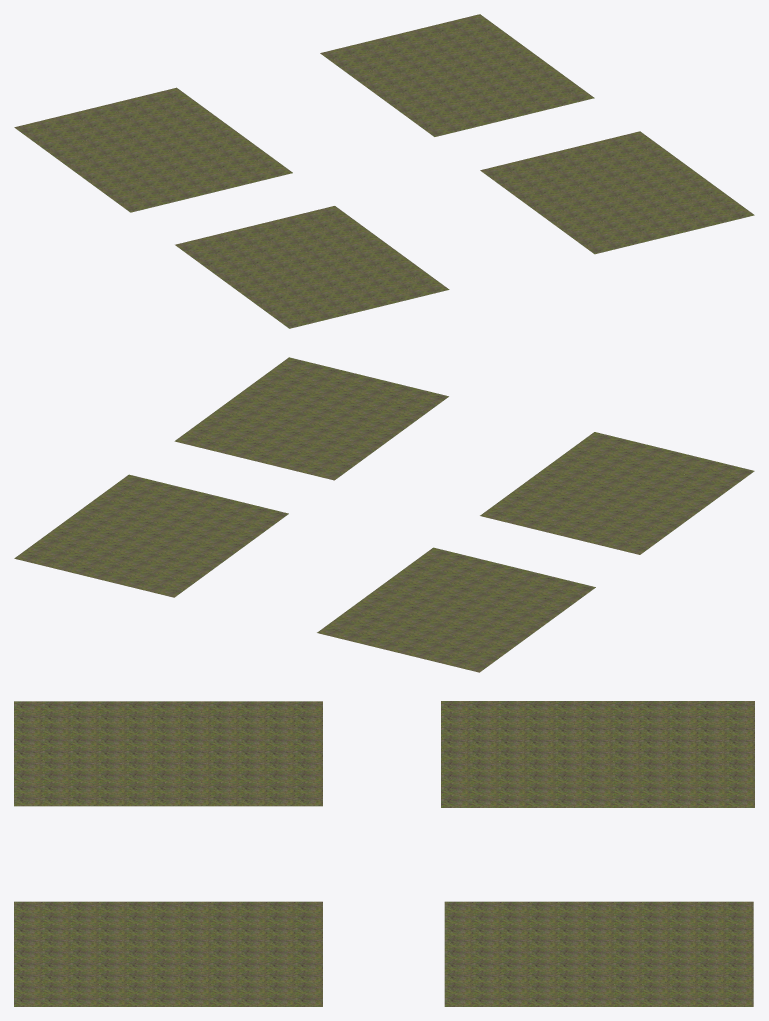
File: Terreno.fbx
The picture shows the model from 3 angles, top to bottom: view 1: azimuth 30°, elevation 25°; view 2: azimuth 150°, elevation 25°; view 3: azimuth 270°, elevation 25°; orthographic projection. The views are drawn at different scales.
Visible parts, largest first — view 1: TerrenoEdificio2; view 2: TerrenoEdificio2; view 3: TerrenoEdificio2.
Part boxes in pixels (bbox=[...]): TerrenoEdificio2: bbox=[14, 14, 754, 328]; TerrenoEdificio2: bbox=[14, 357, 754, 672]; TerrenoEdificio2: bbox=[14, 701, 754, 1006].
Bounding box in the file's own units: 6442 × 0.00107 × 6597.
Materials: 1 (1 with a texture image).
